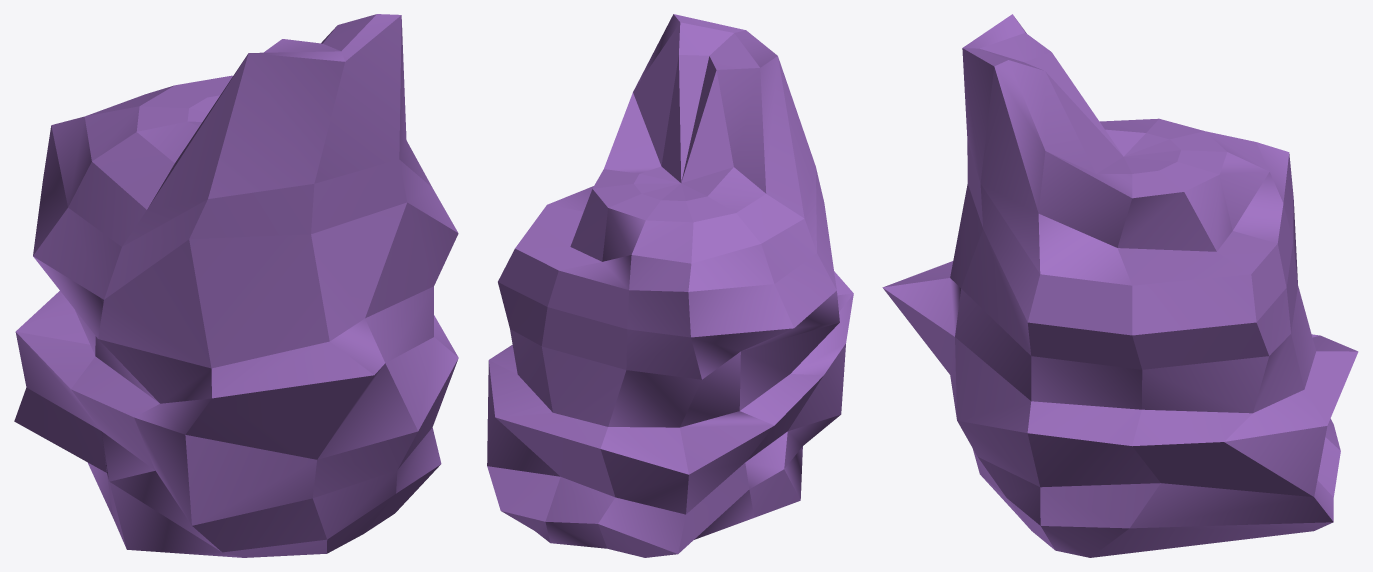
File: Piedrota1.fbx
The picture shows the model from 3 angles, left to right: view 1: azimuth 30°, elevation 25°; view 2: azimuth 150°, elevation 25°; view 3: azimuth 270°, elevation 25°; orthographic projection. The views are drawn at different scales.
Parts seen in each view (by area): view 1: polySurface4447; view 2: polySurface4447; view 3: polySurface4447.
Part boxes in pixels (left/top/right/bottom): polySurface4447: left=14, top=14, right=458, bottom=557; polySurface4447: left=487, top=14, right=853, bottom=557; polySurface4447: left=882, top=14, right=1358, bottom=557.
Bounding box in the file's own units: 750 × 1040 × 948.
